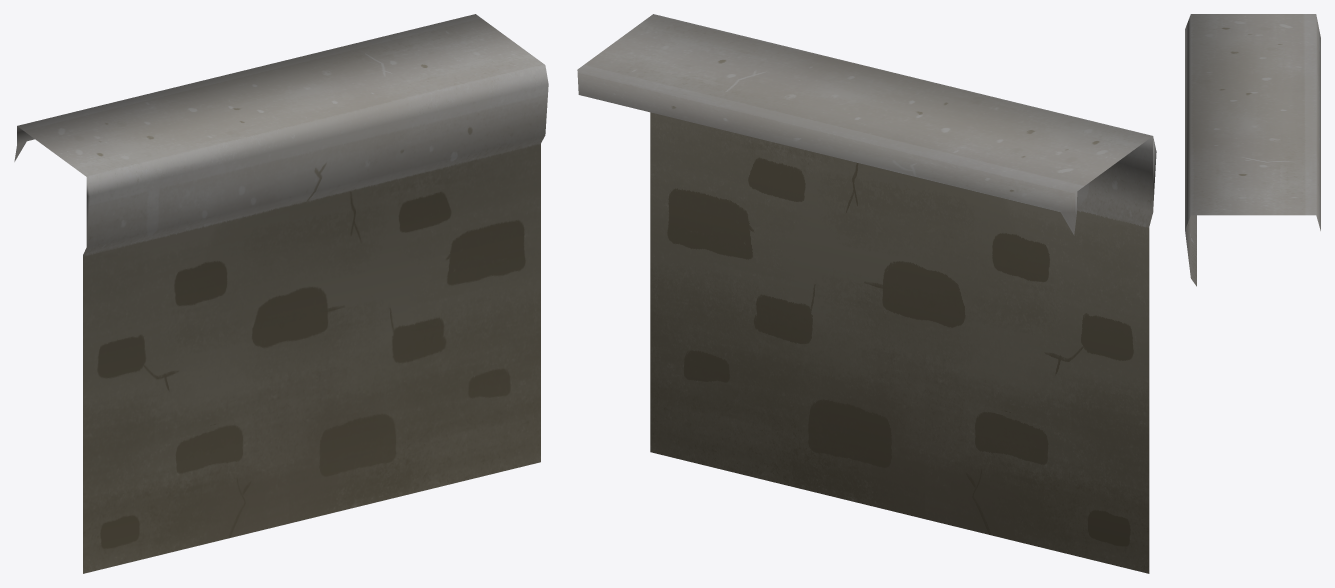
The model's file is Gracht_V2_Midden.fbx.
3 renders of one model, left to right at view 1: azimuth 30°, elevation 25°; view 2: azimuth 150°, elevation 25°; view 3: azimuth 270°, elevation 25°, orthographic. The views are drawn at different scales.
Parts seen in each view (by area): view 1: Plane.022; view 2: Plane.022; view 3: Plane.022.
Part boxes in pixels (<box>): Plane.022: <box>14,14,548,573</box>; Plane.022: <box>577,14,1156,573</box>; Plane.022: <box>1185,14,1320,286</box>.
Size of the model in its own units: 1024 by 852 by 292.
